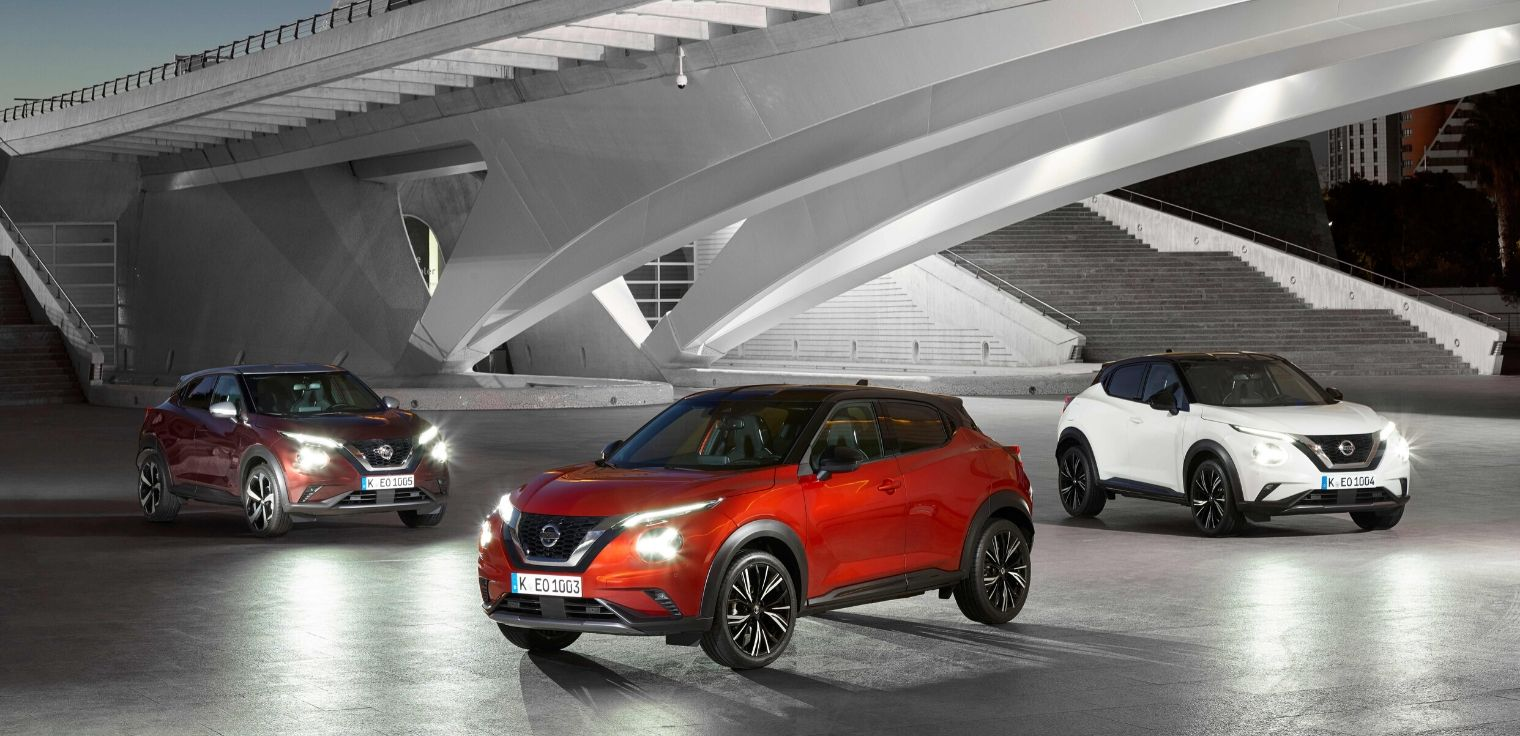car: (478, 381, 1036, 670), (1055, 353, 1411, 538), (137, 364, 450, 541)
